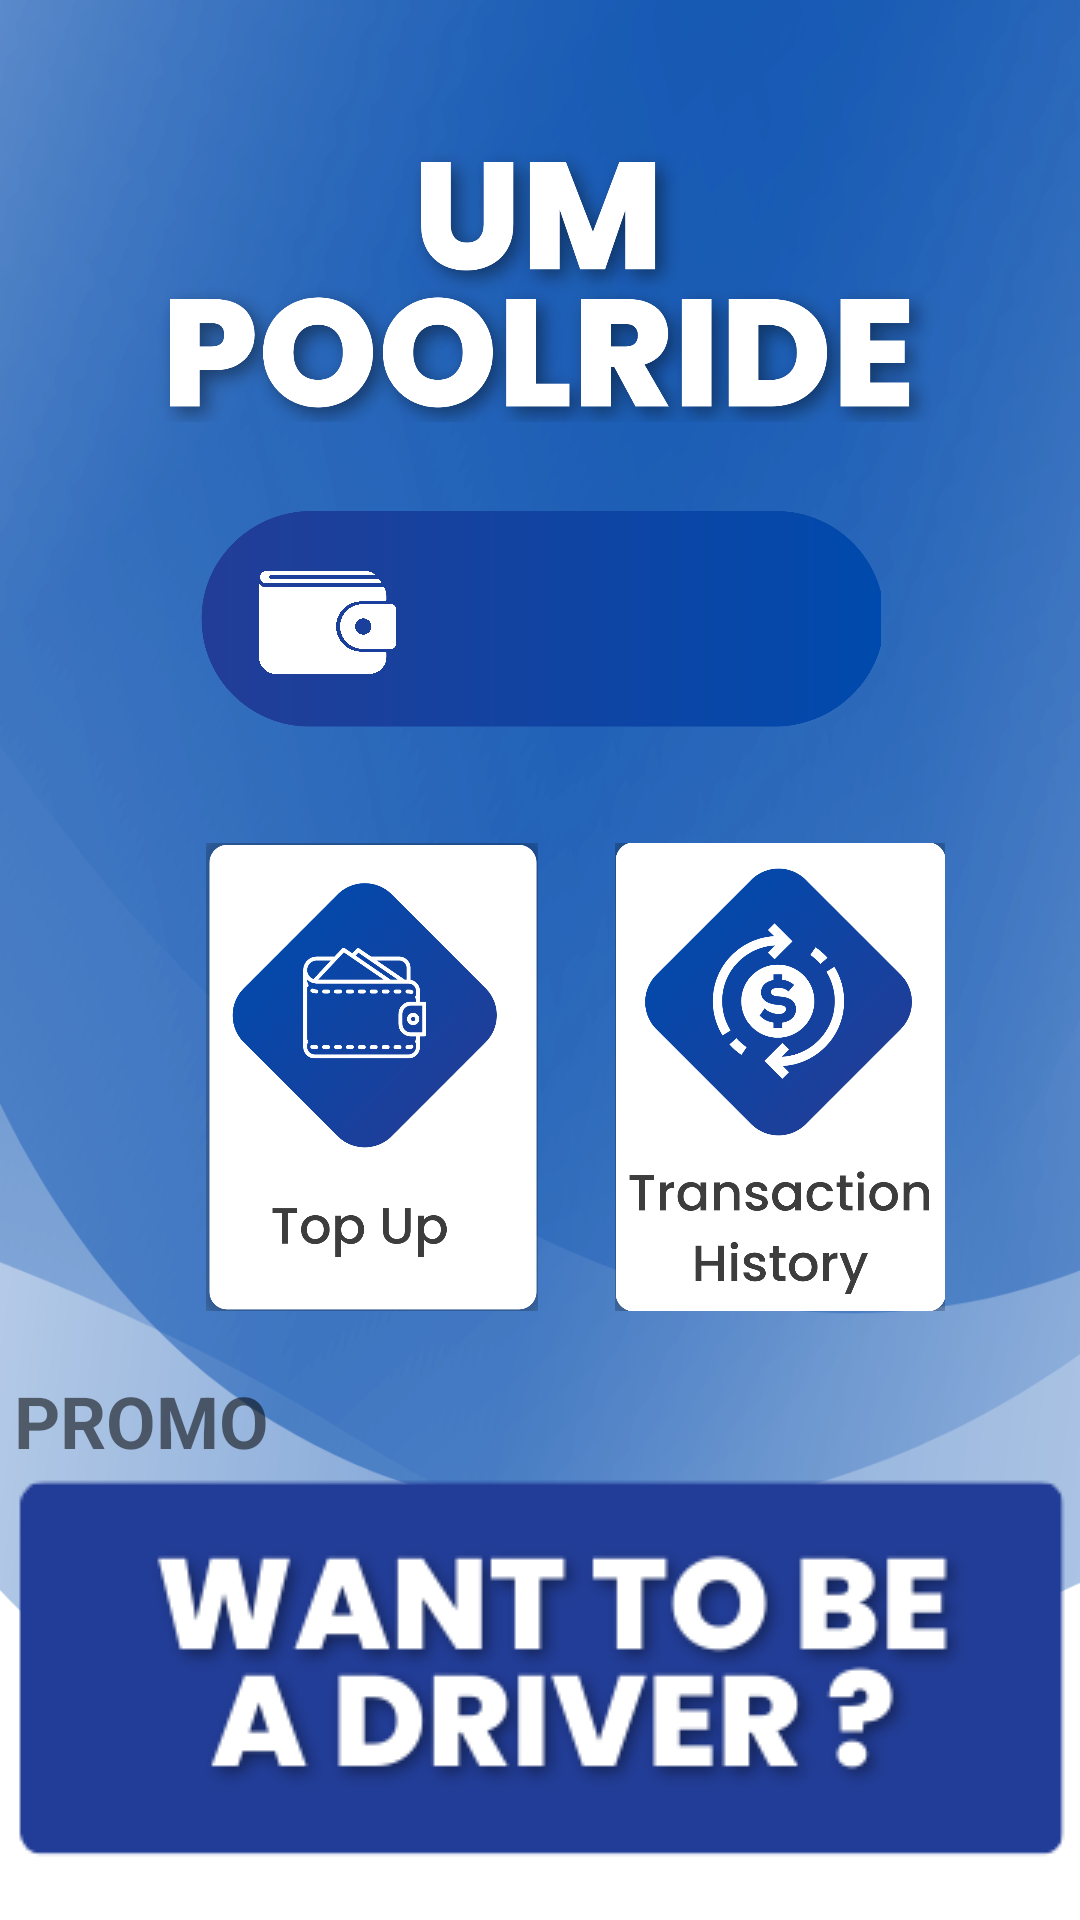

Screen size 1080 x 1920. Icon name, then its center in pixels as (x=x, y=y):
walleticon: (x=327, y=622)
